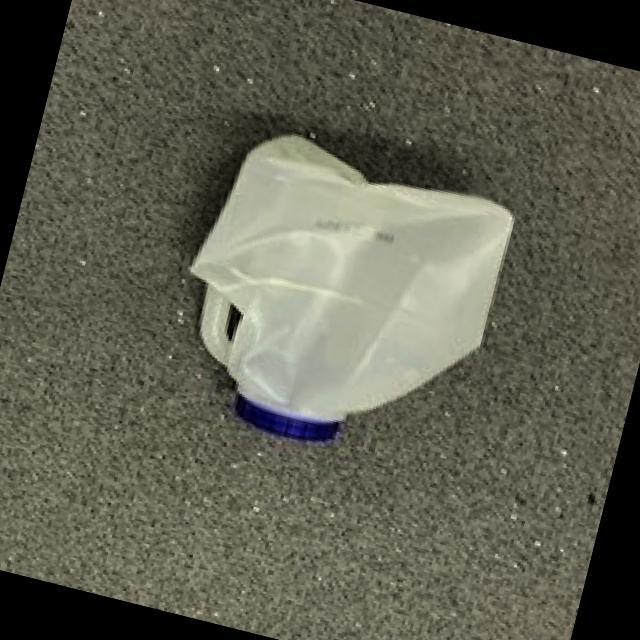HDPE Plastic: (186, 133, 518, 444)
